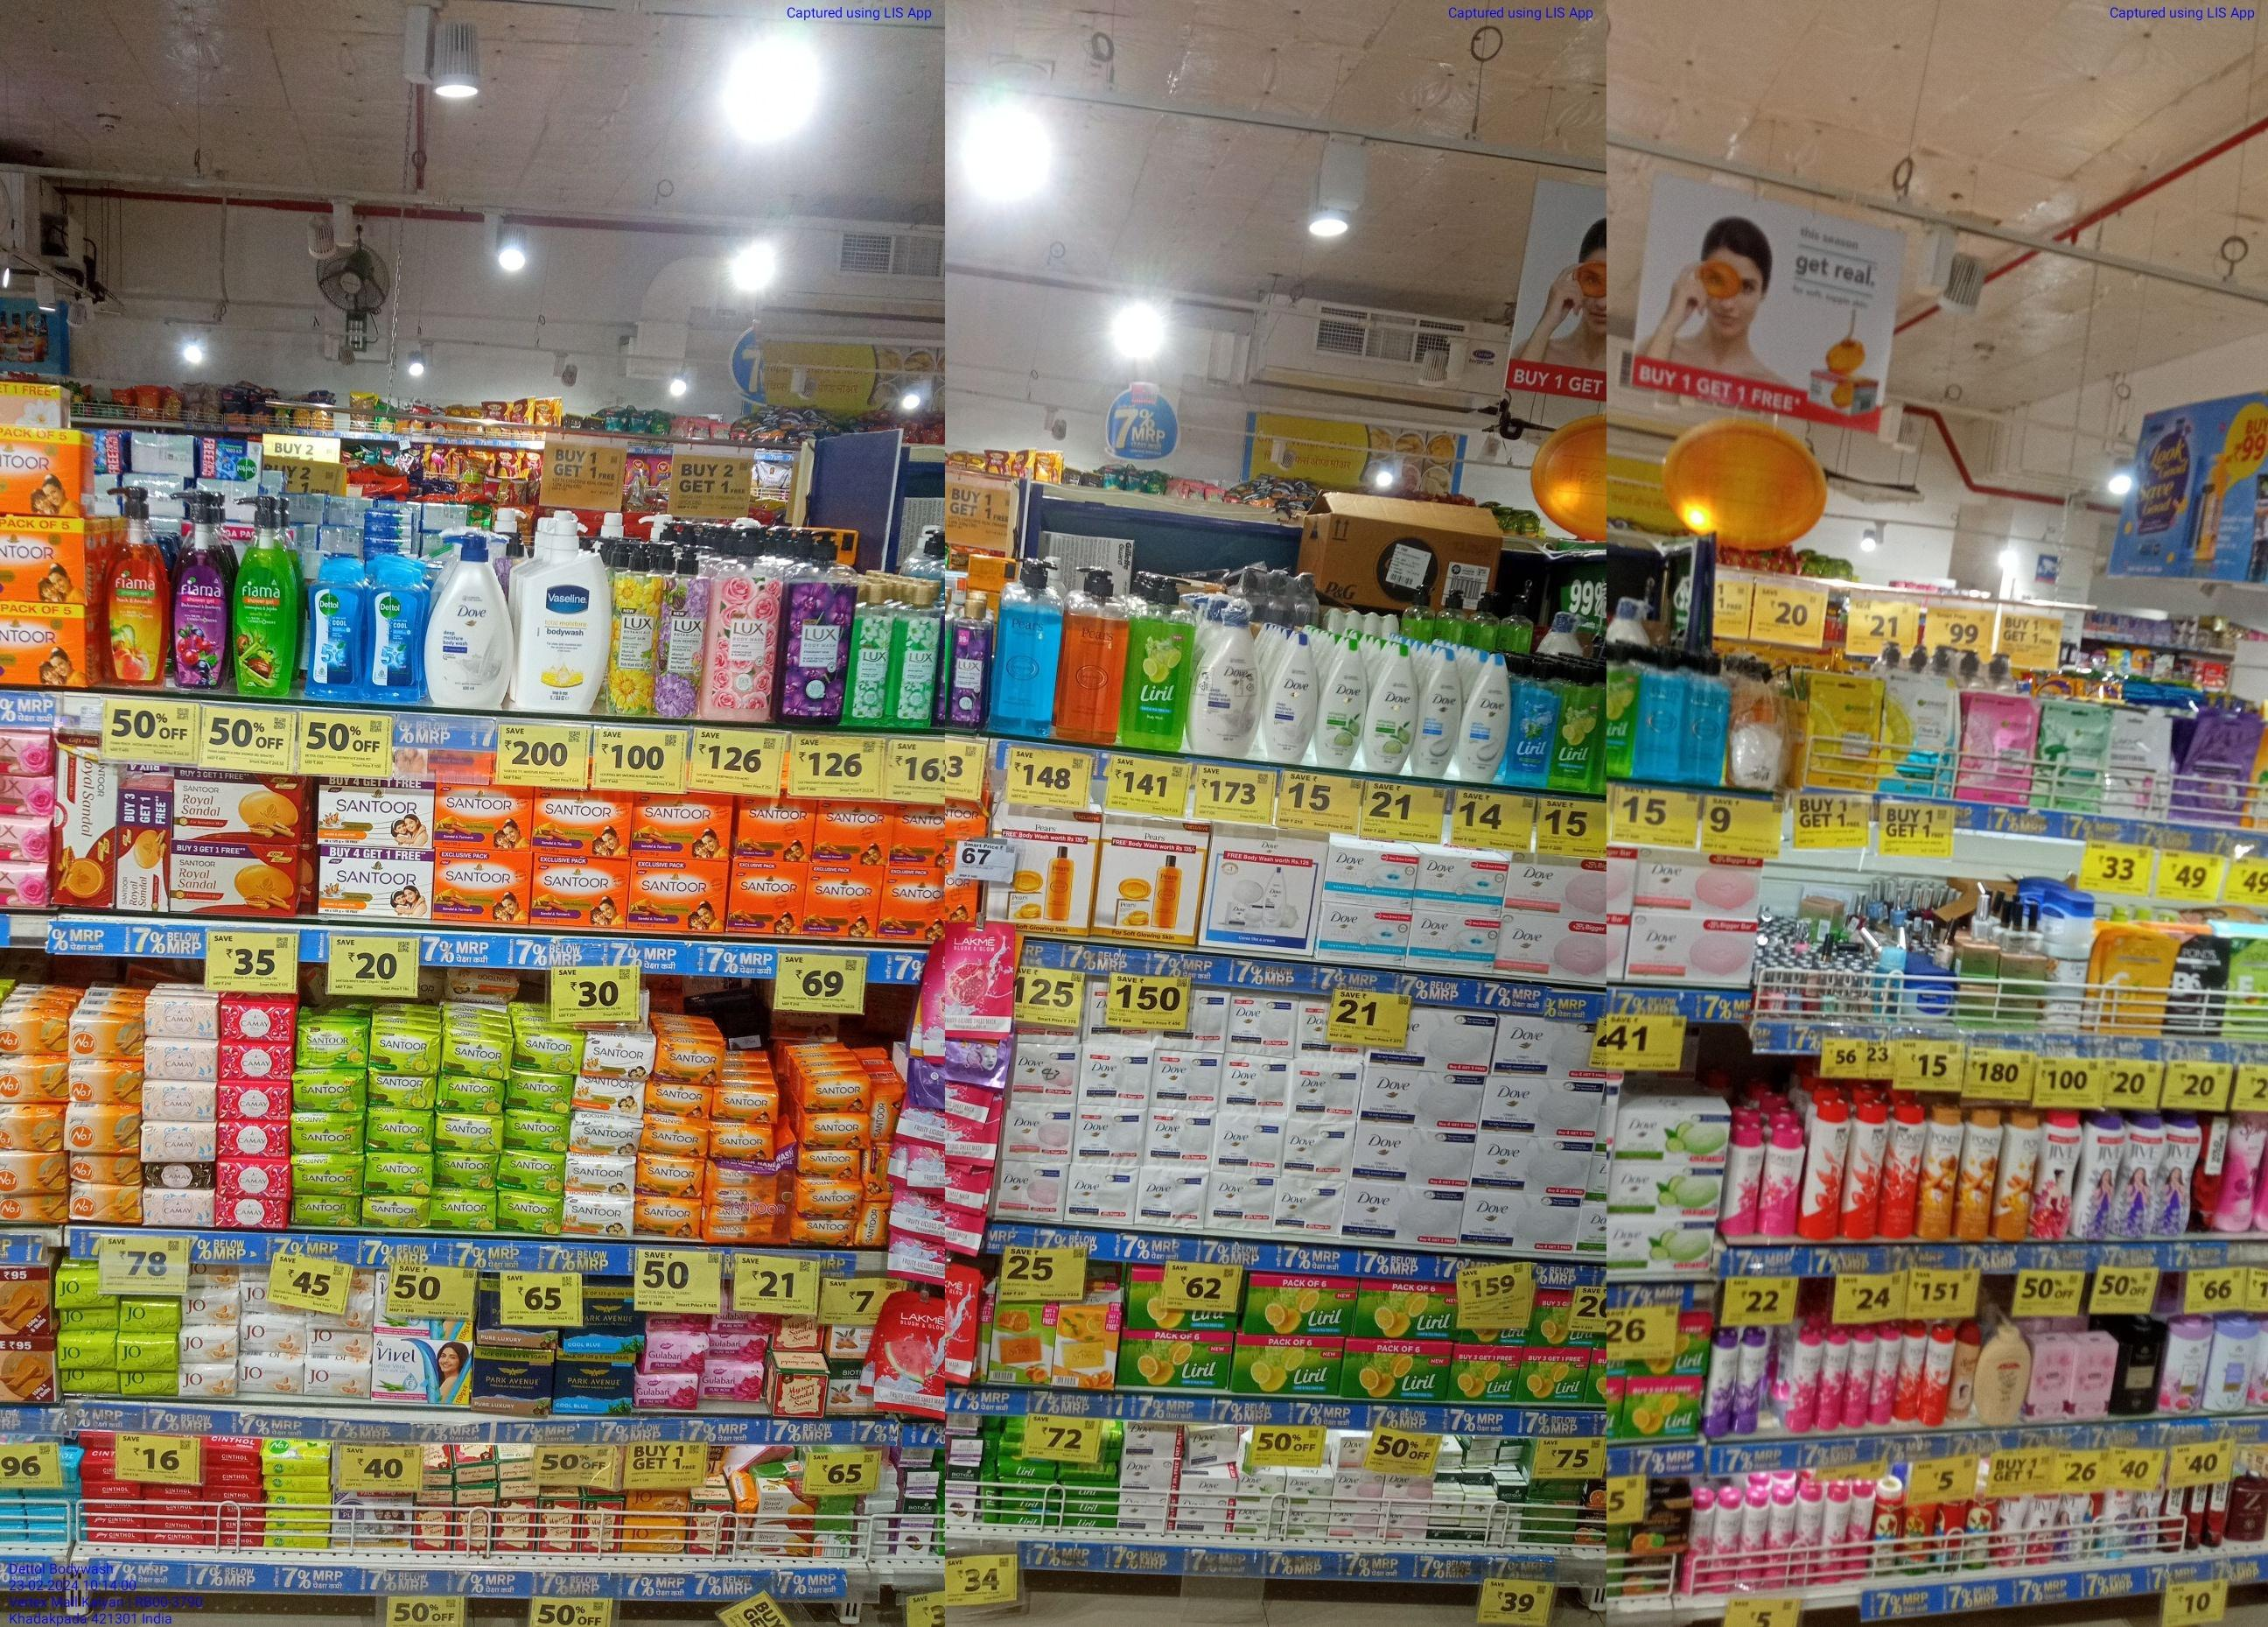Dettol_Bodywash_Cool: (364, 565, 421, 704), (308, 567, 362, 703)
Dove_Deep_Moisture_Body_Wash_250ML: (1270, 637, 1311, 764)
Dove_Gentle_Exfoliating_Body_Wash_250ML: (1457, 655, 1506, 787), (1415, 646, 1459, 780)
Dove_Refreshing_Body_Wash_250ML: (1318, 639, 1367, 769), (1367, 639, 1411, 773)
Lux_Black_Orchid_Scent_and_Juniper_Oil_Body_Wash_245ML: (950, 602, 989, 729)
Lux_Body_Wash_Skin_Detox_Freesia_Scent_and_Alove_Vera_245ML: (850, 581, 890, 729), (897, 578, 936, 729)
